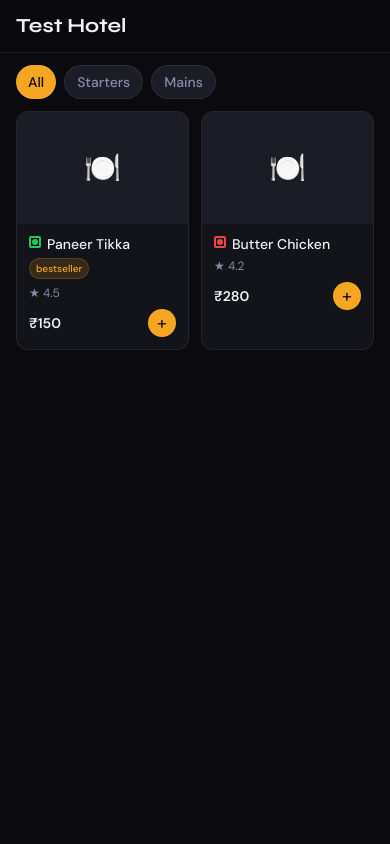
it: PF01 - Menu Screen › Item customization sheet opens on tap
Click the item card (Butter Chicken has customizations)
What coordinates should you click on to do the following:
click the text "Butter Chicken"
I would click on:
 (281, 244)
Its box is [232, 235, 330, 253].
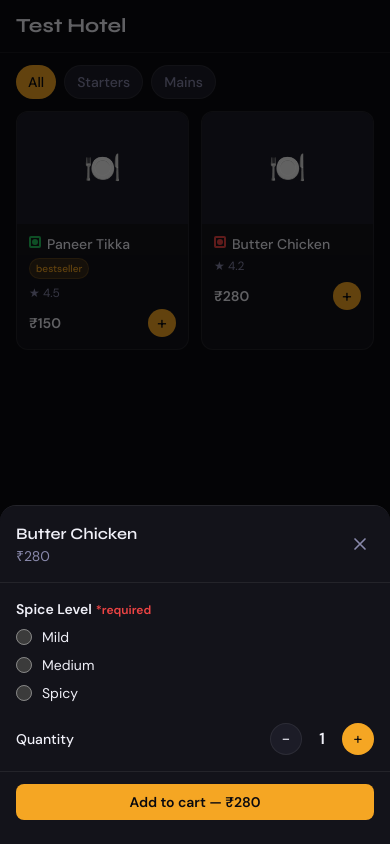
Expected: the dialog is shown, [0, 505, 389, 843]
Expected: the text "Spice Level" is shown, [16, 600, 92, 618]
